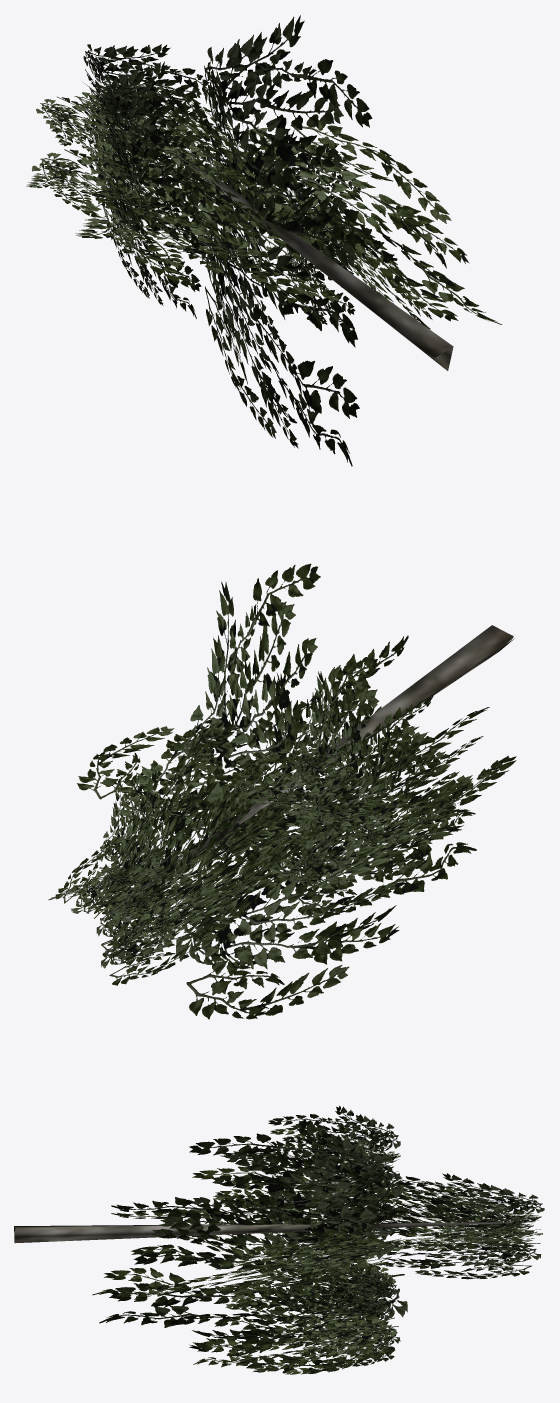
File: MEP_Birch_01_c_LOD_03.fbx
3 views of the same model, one above another, from view 1: azimuth 30°, elevation 25°; view 2: azimuth 150°, elevation 25°; view 3: azimuth 270°, elevation 25° (orthographic). The views are drawn at different scales.
Parts seen in each view (by area): view 1: MEP_Birch_01_c_LOD_03; view 2: MEP_Birch_01_c_LOD_03; view 3: MEP_Birch_01_c_LOD_03.
Boxes of the visible parts, box(x1,y1,x2,y2) form: MEP_Birch_01_c_LOD_03: box(26, 15, 501, 466); MEP_Birch_01_c_LOD_03: box(48, 563, 516, 1019); MEP_Birch_01_c_LOD_03: box(14, 1105, 544, 1374).
Size of the model in its own units: 9.91 by 9.91 by 16.42.
